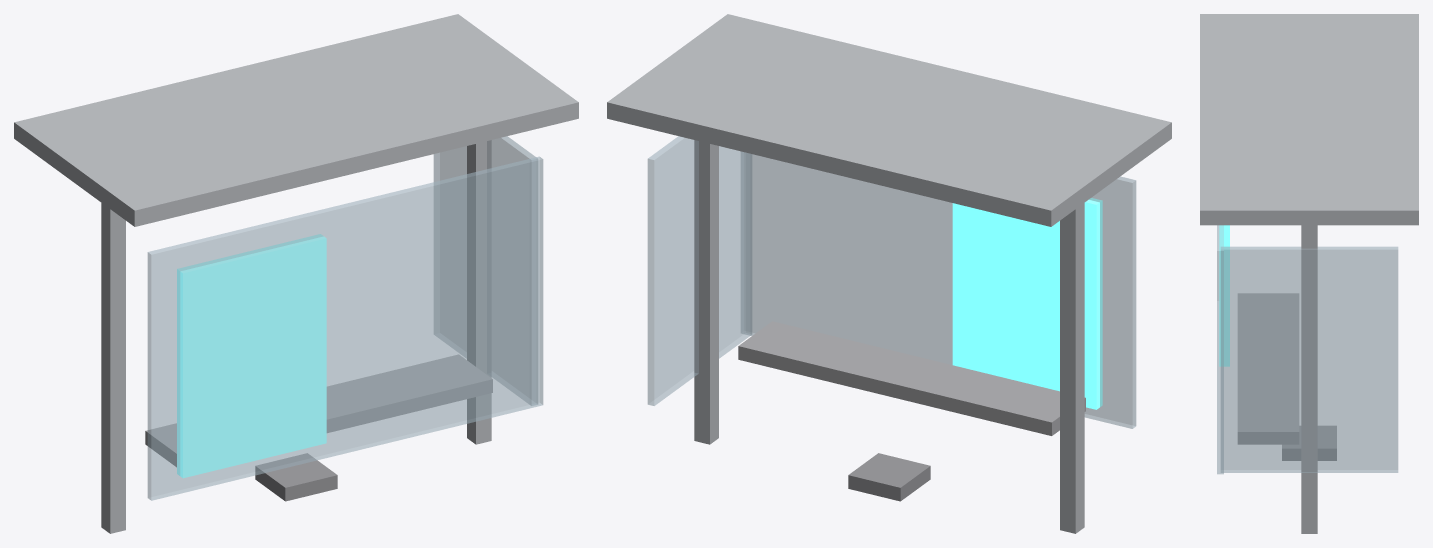
The model's file is bt-bus-stop.glb.
3 renders of one model, left to right at view 1: azimuth 30°, elevation 25°; view 2: azimuth 150°, elevation 25°; view 3: azimuth 270°, elevation 25°, orthographic. The views are drawn at different scales.
Visible parts, largest first — view 1: back_glass, roof, ad_panel, side_glass, bench, post_-1.4, post_1.4, skirt_base; view 2: roof, back_glass, ad_panel, side_glass, bench, post_-1.4, post_1.4, skirt_base; view 3: roof, side_glass, bench, post_1.4, back_glass, ad_panel, skirt_base.
Boxes of the visible parts, left/top/right/bottom form: back_glass: left=147, top=156, right=543, bottom=500; roof: left=14, top=14, right=578, bottom=226; ad_panel: left=177, top=234, right=326, bottom=478; side_glass: left=433, top=136, right=537, bottom=405; bench: left=145, top=354, right=492, bottom=466; post_-1.4: left=101, top=203, right=125, bottom=533; post_1.4: left=467, top=140, right=491, bottom=444; skirt_base: left=255, top=453, right=337, bottom=501; roof: left=607, top=14, right=1171, bottom=226; back_glass: left=741, top=152, right=1136, bottom=428; ad_panel: left=952, top=198, right=1102, bottom=409; side_glass: left=647, top=136, right=751, bottom=405; bench: left=738, top=321, right=1085, bottom=435; post_-1.4: left=1060, top=203, right=1084, bottom=533; post_1.4: left=694, top=140, right=718, bottom=444; skirt_base: left=848, top=453, right=930, bottom=501; roof: left=1200, top=14, right=1418, bottom=225; side_glass: left=1220, top=246, right=1398, bottom=472; bench: left=1238, top=293, right=1298, bottom=444; post_1.4: left=1301, top=225, right=1317, bottom=533; back_glass: left=1217, top=225, right=1223, bottom=474; ad_panel: left=1219, top=225, right=1229, bottom=366; skirt_base: left=1282, top=426, right=1336, bottom=460.
Size of the model in its own units: 3.4 by 2.72 by 1.6.
